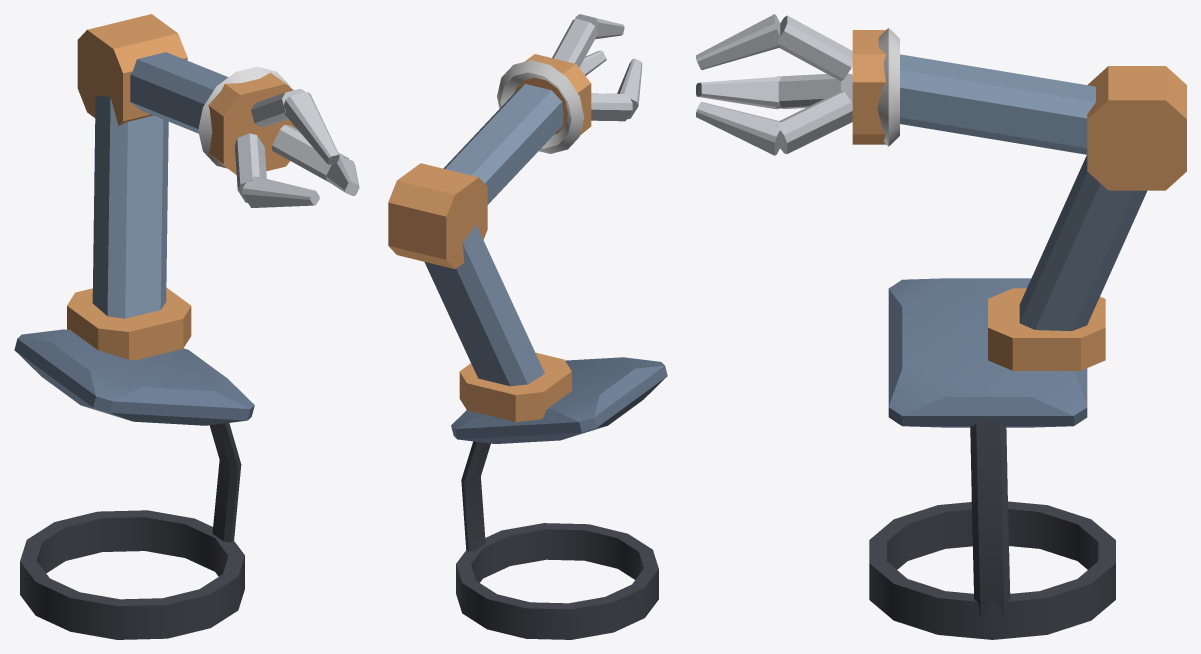
File: gear_pince.glb
The picture shows the model from 3 angles, left to right: view 1: azimuth 30°, elevation 25°; view 2: azimuth 150°, elevation 25°; view 3: azimuth 270°, elevation 25°; orthographic projection. The views are drawn at different scales.
Parts seen in each view (by area): view 1: arm_l__pince, arm_l__pince_selle, arm_l__pince_glow; view 2: arm_l__pince, arm_l__pince_selle, arm_l__pince_glow; view 3: arm_l__pince, arm_l__pince_selle, arm_l__pince_glow.
Part boxes in pixels (x1=…): arm_l__pince: x1=67, y1=14, x2=359, y2=359; arm_l__pince_selle: x1=14, y1=329, x2=254, y2=639; arm_l__pince_glow: x1=198, y1=66, x2=290, y2=168; arm_l__pince: x1=388, y1=14, x2=642, y2=422; arm_l__pince_selle: x1=451, y1=357, x2=667, y2=639; arm_l__pince_glow: x1=497, y1=60, x2=584, y2=153; arm_l__pince: x1=696, y1=14, x2=1186, y2=370; arm_l__pince_selle: x1=869, y1=278, x2=1115, y2=639; arm_l__pince_glow: x1=877, y1=28, x2=899, y2=146.
Size of the model in its own units: 0.1225 by 0.2955 by 0.2172.
